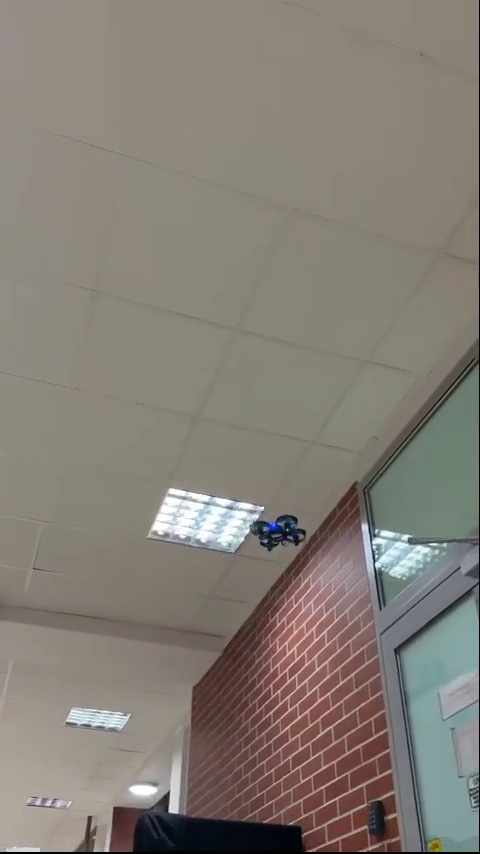drone: (251, 515, 310, 557)
